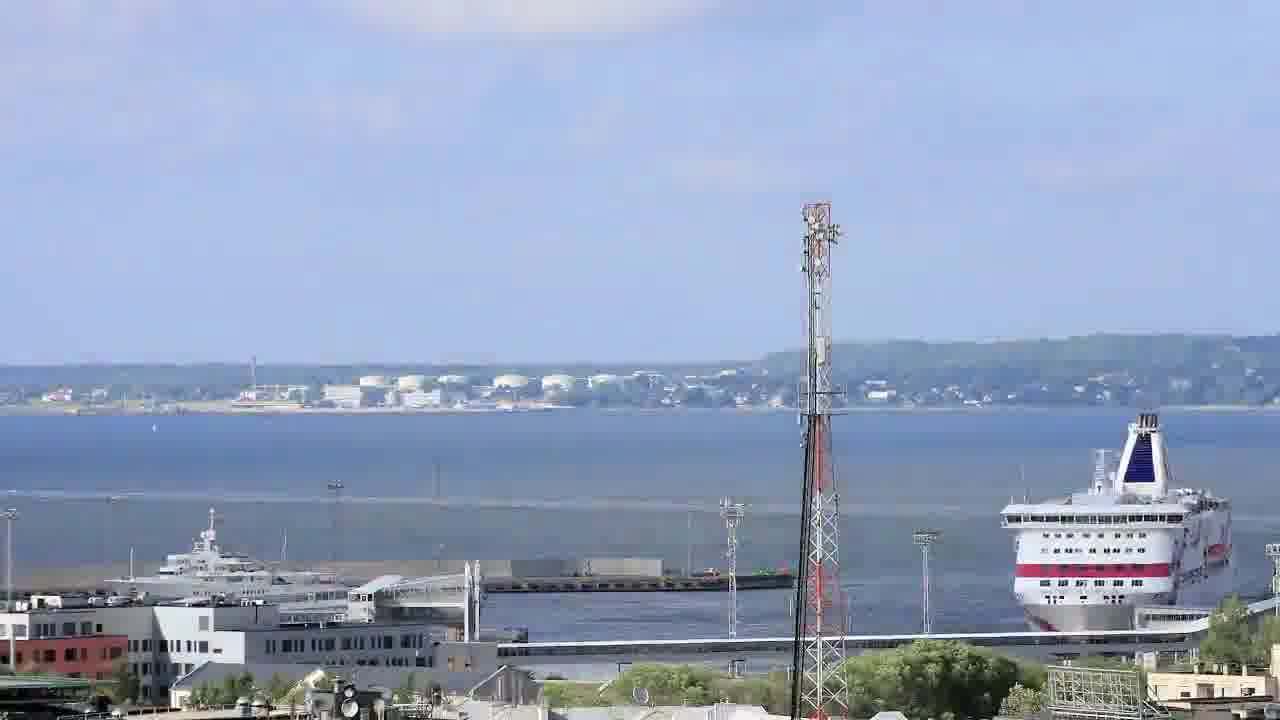type-3: (965, 410, 1231, 638), (89, 518, 402, 620)
